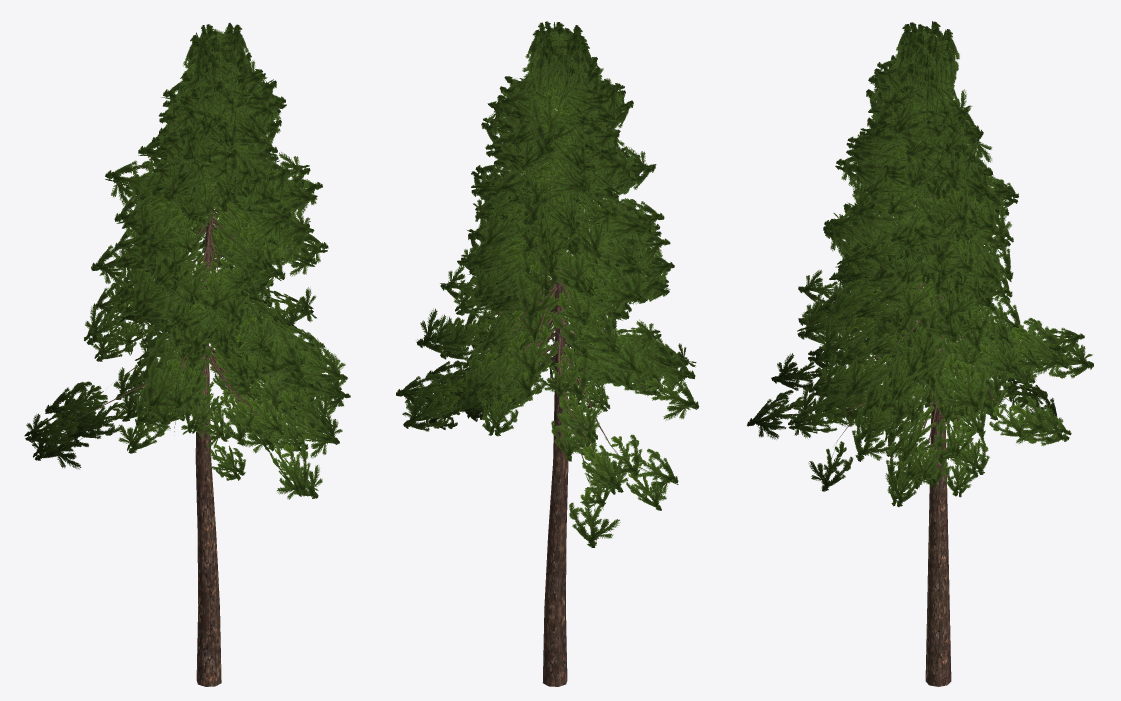
The model's file is pine_tall_mid.glb.
The picture shows the model from 3 angles, left to right: view 1: azimuth 30°, elevation 25°; view 2: azimuth 150°, elevation 25°; view 3: azimuth 270°, elevation 25°; orthographic projection.
Parts seen in each view (by area): view 1: pine_tree_tall_leaves, pine_tree_tall_bark; view 2: pine_tree_tall_leaves, pine_tree_tall_bark; view 3: pine_tree_tall_leaves, pine_tree_tall_bark.
Boxes of the visible parts, bbox=[...] form: pine_tree_tall_leaves: bbox=[24, 22, 350, 499]; pine_tree_tall_bark: bbox=[76, 189, 304, 686]; pine_tree_tall_leaves: bbox=[396, 21, 699, 547]; pine_tree_tall_bark: bbox=[463, 119, 663, 686]; pine_tree_tall_leaves: bbox=[747, 21, 1093, 506]; pine_tree_tall_bark: bbox=[826, 170, 1013, 686].
Bounding box in the file's own units: 0.458 × 1 × 0.5042.
Materials: 2 (2 with a texture image).
